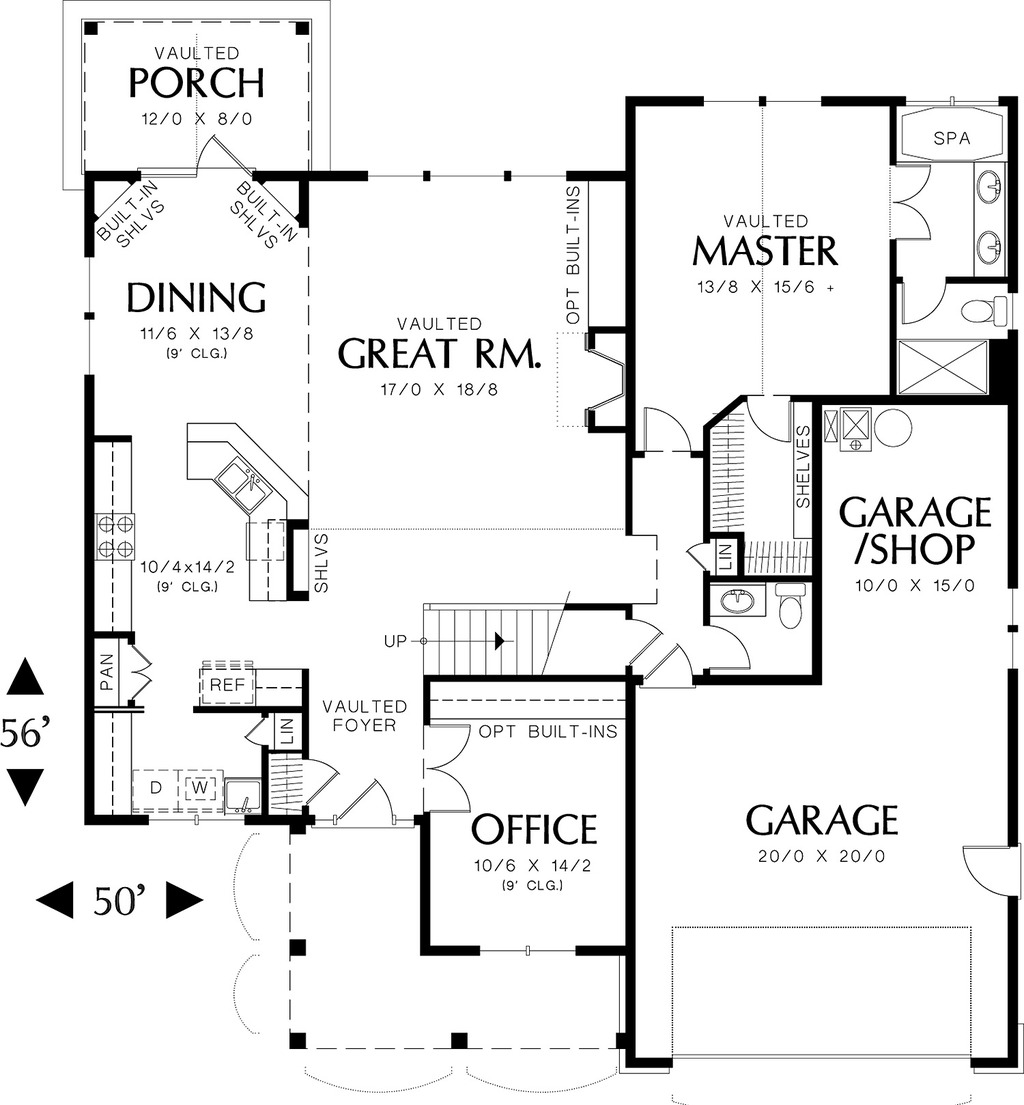door: (414, 715, 478, 825), (874, 153, 941, 246), (185, 129, 257, 189), (952, 848, 1024, 903), (743, 398, 807, 450), (636, 407, 695, 462), (695, 622, 753, 677), (647, 634, 698, 694), (326, 774, 390, 820), (898, 277, 947, 325), (117, 646, 153, 705), (621, 608, 653, 674), (298, 760, 335, 812), (241, 710, 274, 746)
large_sink: (941, 286, 1012, 332), (772, 581, 816, 638)
small_sink: (971, 155, 1010, 279), (700, 581, 774, 625)
stairs: (405, 600, 617, 677)
tub: (883, 96, 1019, 157)
twin_sink: (207, 450, 276, 525)
window: (357, 167, 566, 193), (702, 93, 819, 112), (1003, 589, 1017, 665)
